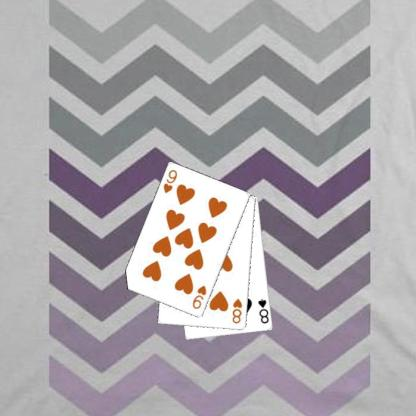8H: (230, 296, 243, 325)
8S: (256, 296, 270, 325)
9H: (190, 283, 208, 311), (161, 167, 178, 195)
